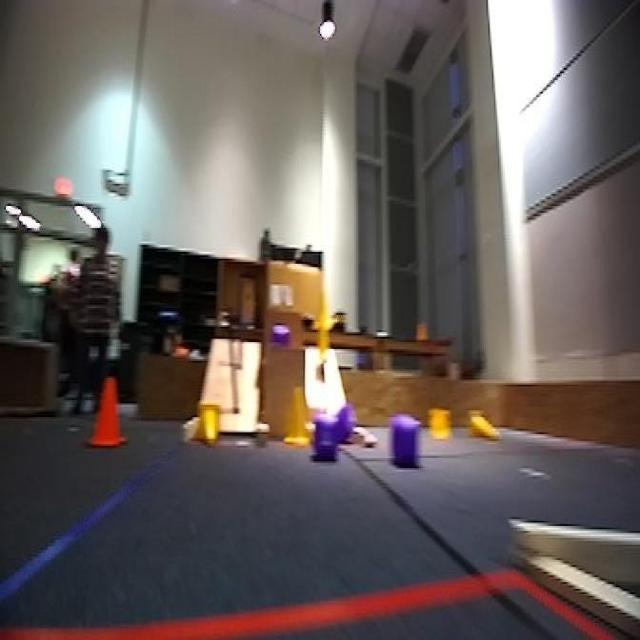frc_cone: (285, 384, 318, 454), (193, 403, 223, 448), (465, 408, 498, 441), (314, 317, 336, 366), (426, 403, 451, 442), (318, 280, 332, 334)
frc_cube: (389, 422, 421, 463), (307, 414, 337, 456), (336, 402, 350, 439), (270, 329, 290, 347)
